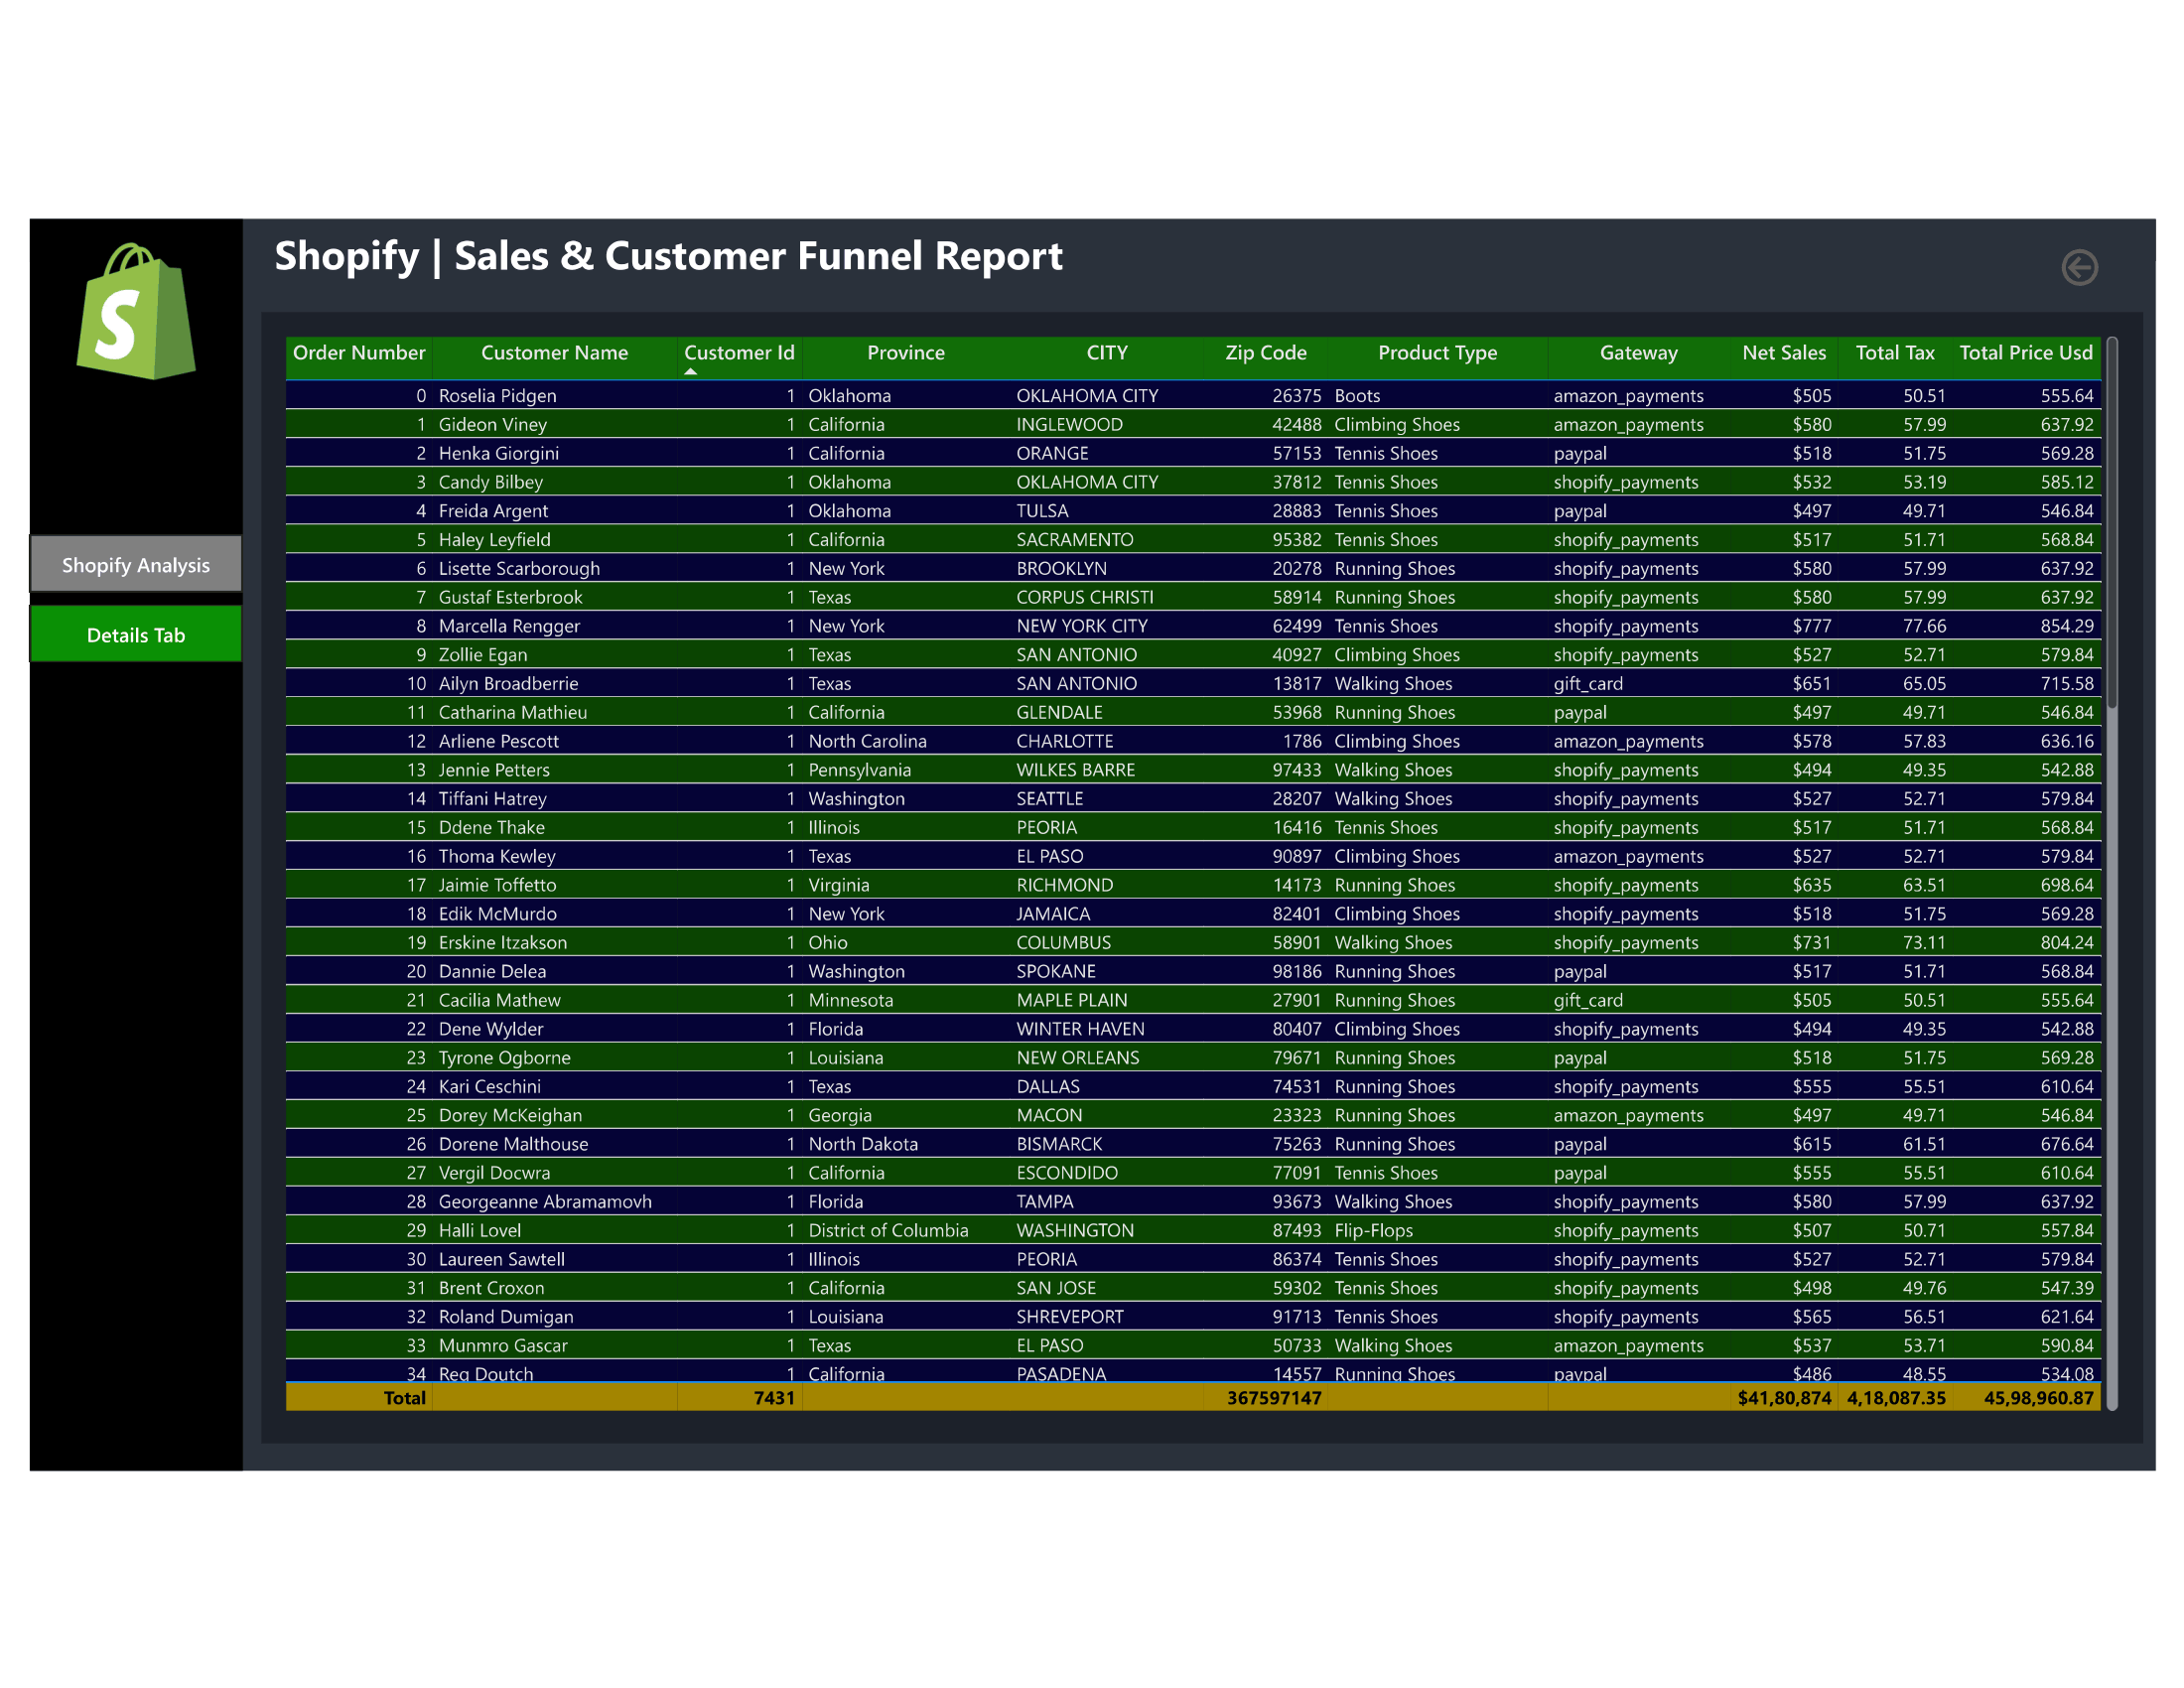

Layout of this report page (visuals, bound fields, positions):
{"tool":"powerbi","page":{"name":"Details Tab","canvas":[1700,1000],"ordinal":1},"visuals":[{"type":"shape","box":[0,0,170,1000.5],"z":0},{"type":"textbox","box":[184.3,0,653.5,58.6],"z":1000},{"type":"shape","box":[184.9,73.6,1505.1,904.1],"z":9000},{"type":"actionButton","box":[1619.9,18.8,54.8,39.4],"z":11000},{"type":"image","box":[22.3,18.8,126.7,109.6],"z":26000},{"type":"tableEx","fields":{"Values":["shopify_sales.Order Number","shopify_sales.Customer Name","CountNonNull(shopify_sales.Customer Id)","shopify_sales.Billing Address Province","shopify_sales.CITY","Sum(shopify_sales.Billing Address Zip)","shopify_sales.Product Type","shopify_sales.Gateway","shopify_sales.Net Sales","Sum(shopify_sales.Total Tax)","Sum(shopify_sales.Total Price Usd)"]},"box":[198.6,89,1476,868.2],"z":26001},{"type":"pageNavigator","box":[0,251.7,169.5,102.7],"z":26002}]}

Visuals, with their boxes on the page's 1700x1000 design canvas (x1, y1, x2, y2). These are canvas units, not pixel positions in the 2184x1688 screenshot, which may show the page scaled, cropped or inside an application window:
shape: 0 0 170 1000
textbox: 184 0 838 59
shape: 185 74 1690 978
actionButton: 1620 19 1675 58
image: 22 19 149 128
tableEx - shopify_sales.Order Number x shopify_sales.Customer Name: 199 89 1675 957
pageNavigator: 0 252 170 354
